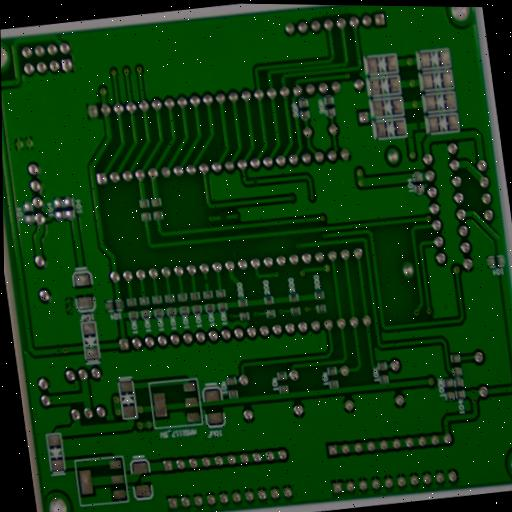open_circuit: (218, 212, 230, 223), (413, 120, 423, 133), (250, 177, 260, 186), (308, 304, 317, 314), (202, 276, 210, 286)
